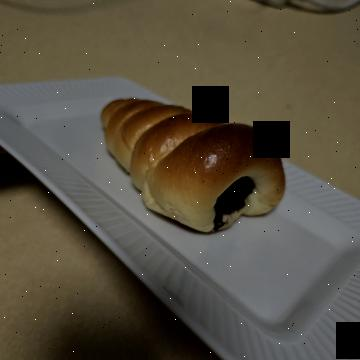cream horn: (84, 54, 250, 273)
